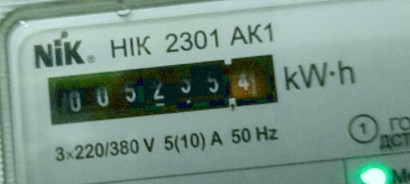0: (65, 87, 82, 113), (93, 82, 110, 108)
2: (147, 74, 165, 101)
3: (174, 69, 193, 95)
4: (232, 64, 252, 94)
5: (202, 66, 220, 95), (120, 77, 136, 103)
screen: (32, 42, 287, 134)
